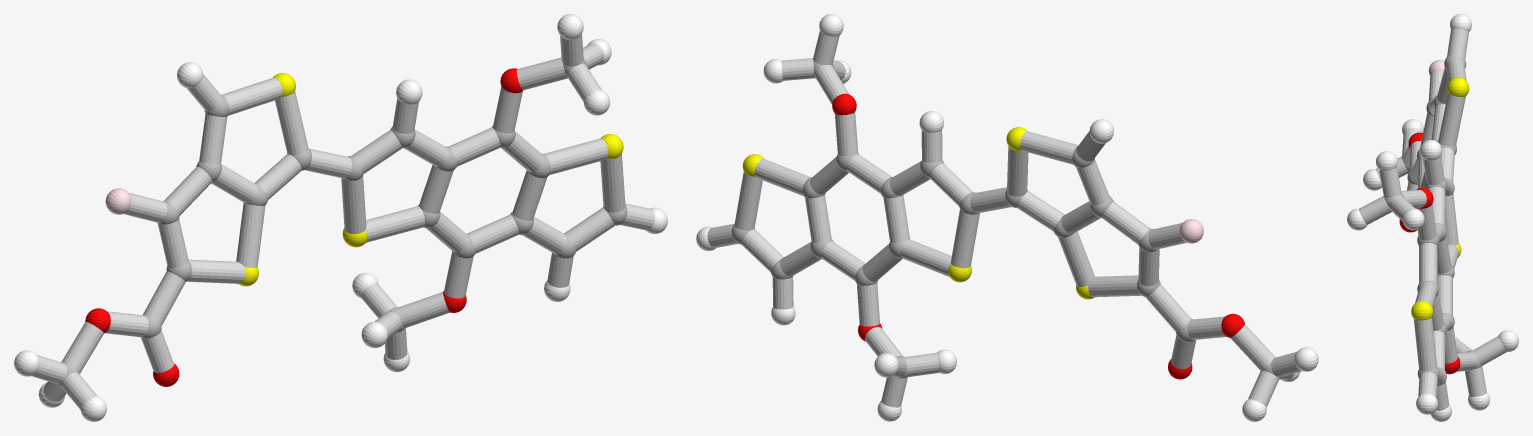
File: color.glb
3 renders of one model, left to right at view 1: azimuth 30°, elevation 25°; view 2: azimuth 150°, elevation 25°; view 3: azimuth 270°, elevation 25°, orthographic. The views are drawn at different scales.
Visible parts, largest first — view 1: grp15205, grp8689, grp1, grp13395, grp7241; view 2: grp15205, grp8689, grp1, grp13395, grp7241; view 3: grp15205, grp8689, grp1, grp7241, grp13395.
Part boxes in pixels (<box>): grp15205: <box>31,34,654,409</box>; grp8689: <box>14,14,667,421</box>; grp1: <box>56,58,627,387</box>; grp13395: <box>85,68,522,386</box>; grp7241: <box>239,73,623,286</box>; grp15205: <box>707,31,1301,407</box>; grp8689: <box>696,14,1318,421</box>; grp1: <box>731,61,1281,378</box>; grp13395: <box>832,93,1244,379</box>; grp7241: <box>742,127,1094,299</box>; grp15205: <box>1359,28,1506,410</box>; grp8689: <box>1347,14,1518,421</box>; grp1: <box>1384,56,1481,385</box>; grp7241: <box>1411,77,1469,320</box>; grp13395: <box>1399,132,1460,374</box>.
Size of the model in its own units: 17.18 by 9.19 by 4.67.
